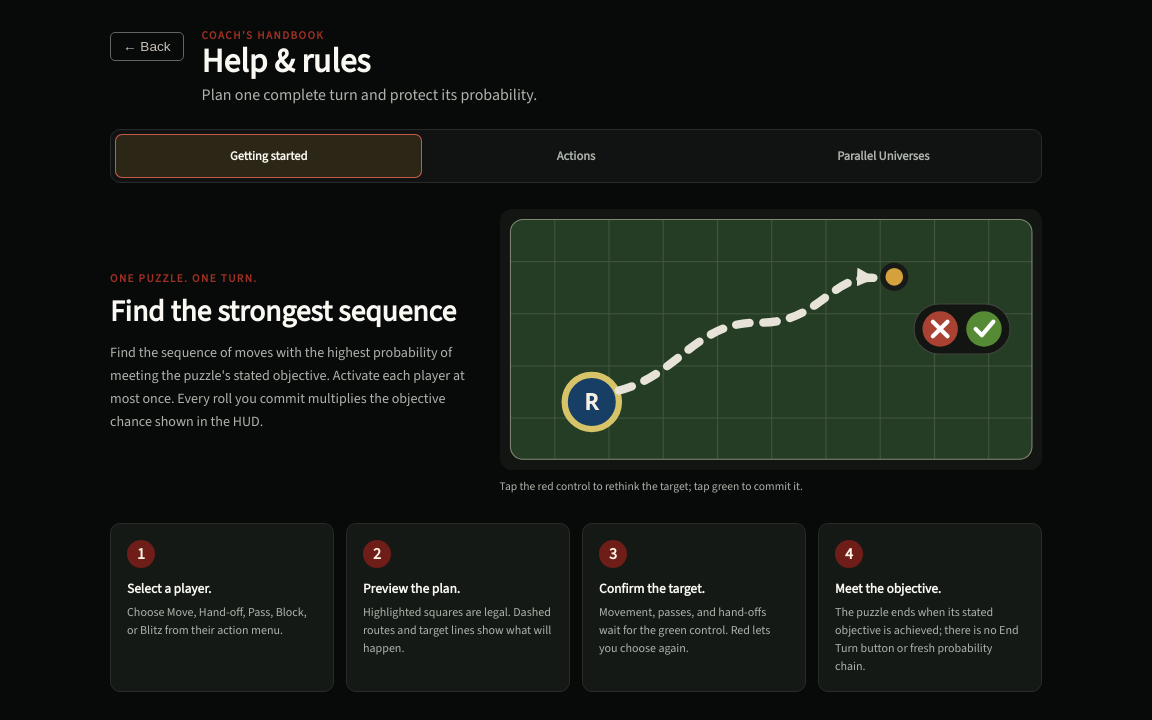
HelpScreen › has an illustrated Parallel Universes page covering strips and lockstep
Click the tab "Parallel Universes" at (883, 156), box [730,134,1037,178]
(page scrolled)
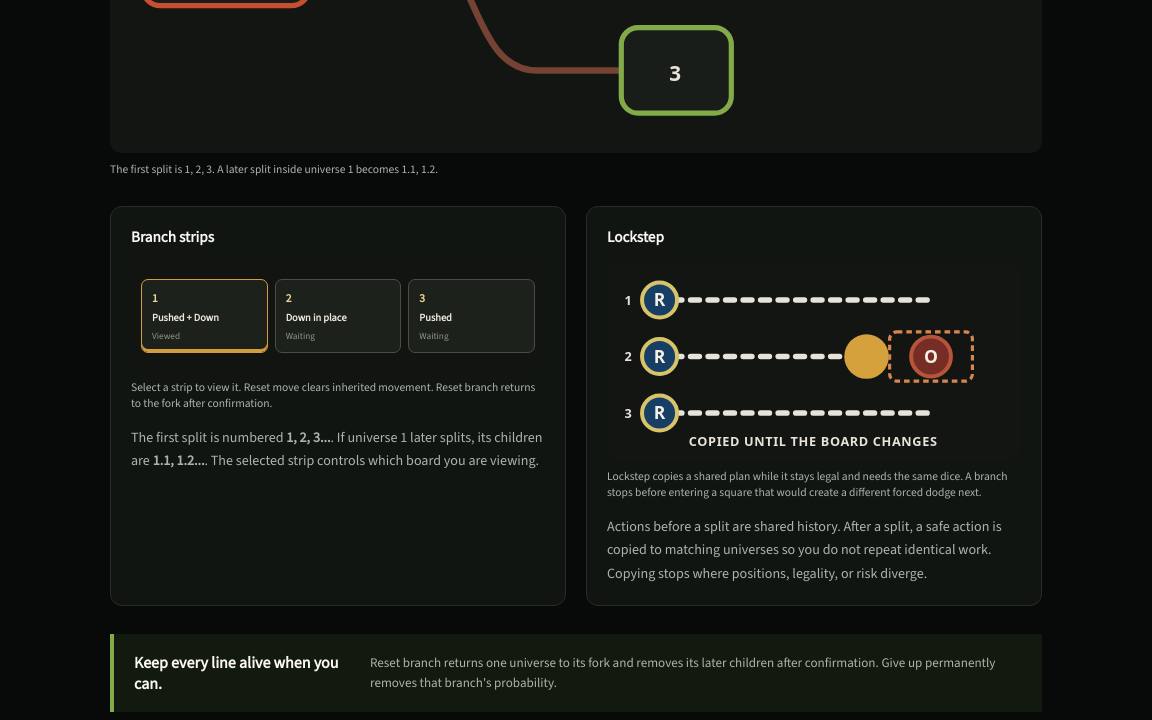
Result: the heading "Branch strips" is shown at [131,227,214,247]
Result: the heading "Lockstep" is shown at [607,227,664,247]
Result: the picture named "three universe cards" is shown at [131,261,545,371]
